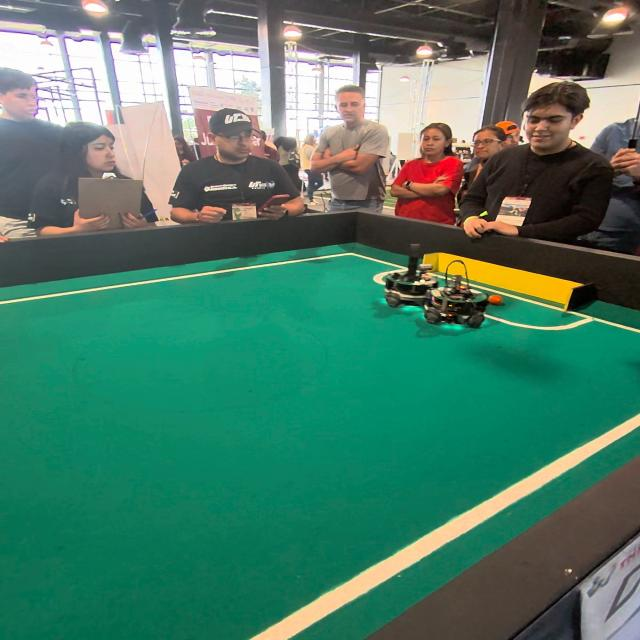Robot: (426, 255, 490, 331), (381, 244, 431, 308)
pelota: (482, 292, 518, 312)
